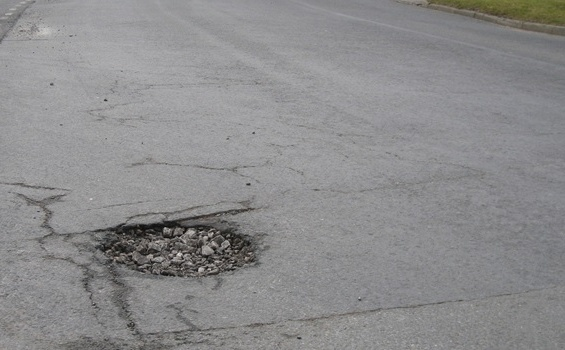pothole: (109, 215, 259, 274)
